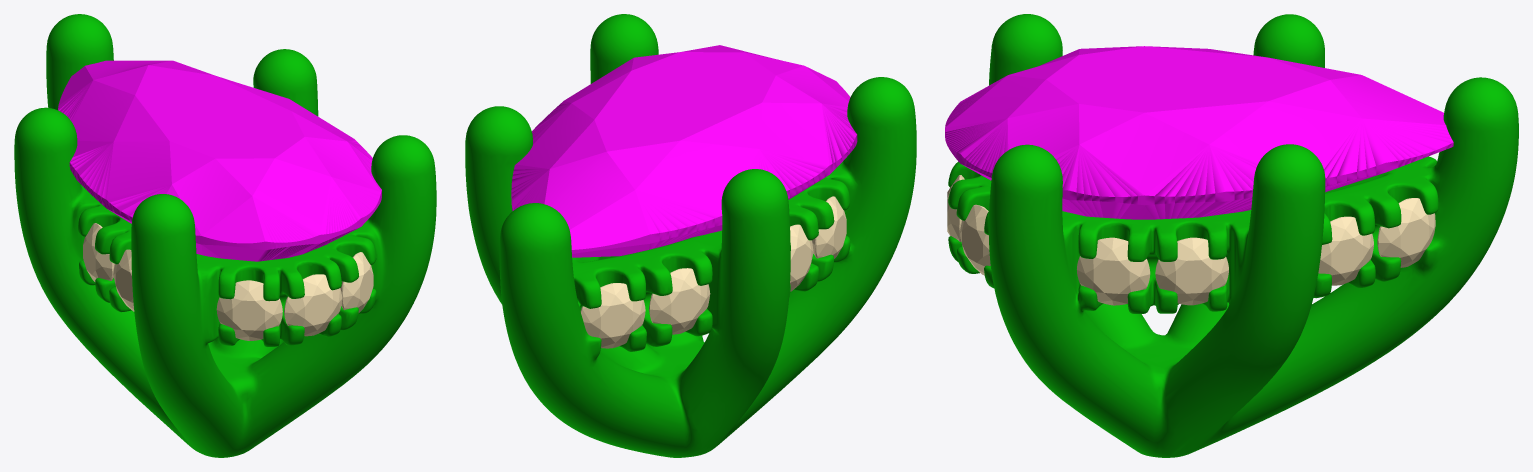
The picture shows the model from 3 angles, left to right: view 1: azimuth 30°, elevation 25°; view 2: azimuth 150°, elevation 25°; view 3: azimuth 270°, elevation 25°; orthographic projection. The views are drawn at different scales.
Visible parts, largest first — view 1: Metal01, Diamond_Pear, Diamond_Round.010, Diamond_Round.009, Diamond_Round.008, Diamond_Round.002, Diamond_Round.003; view 2: Metal01, Diamond_Pear, Diamond_Round, Diamond_Round.001, Diamond_Round.003, Diamond_Round.002; view 3: Metal01, Diamond_Pear, Diamond_Round.004, Diamond_Round.005, Diamond_Round.006, Diamond_Round.007, Diamond_Round.008.
Boxes of the visible parts, bbox=[...] form: Metal01: bbox=[14, 14, 436, 457]; Diamond_Pear: bbox=[58, 60, 381, 261]; Diamond_Round.010: bbox=[216, 280, 282, 340]; Diamond_Round.009: bbox=[284, 274, 342, 336]; Diamond_Round.008: bbox=[340, 252, 373, 312]; Diamond_Round.002: bbox=[83, 223, 114, 281]; Diamond_Round.003: bbox=[113, 249, 134, 311]; Metal01: bbox=[465, 14, 916, 457]; Diamond_Pear: bbox=[511, 45, 857, 257]; Diamond_Round: bbox=[580, 283, 645, 348]; Diamond_Round.001: bbox=[649, 268, 710, 334]; Diamond_Round.003: bbox=[812, 196, 846, 258]; Diamond_Round.002: bbox=[790, 224, 813, 291]; Metal01: bbox=[948, 14, 1518, 457]; Diamond_Pear: bbox=[945, 46, 1453, 219]; Diamond_Round.004: bbox=[1077, 237, 1150, 305]; Diamond_Round.005: bbox=[1155, 237, 1228, 305]; Diamond_Round.006: bbox=[1318, 216, 1373, 285]; Diamond_Round.007: bbox=[1377, 198, 1435, 267]; Diamond_Round.008: bbox=[960, 204, 990, 275].
Size of the model in its own units: 5.17 by 5.48 by 7.76.
